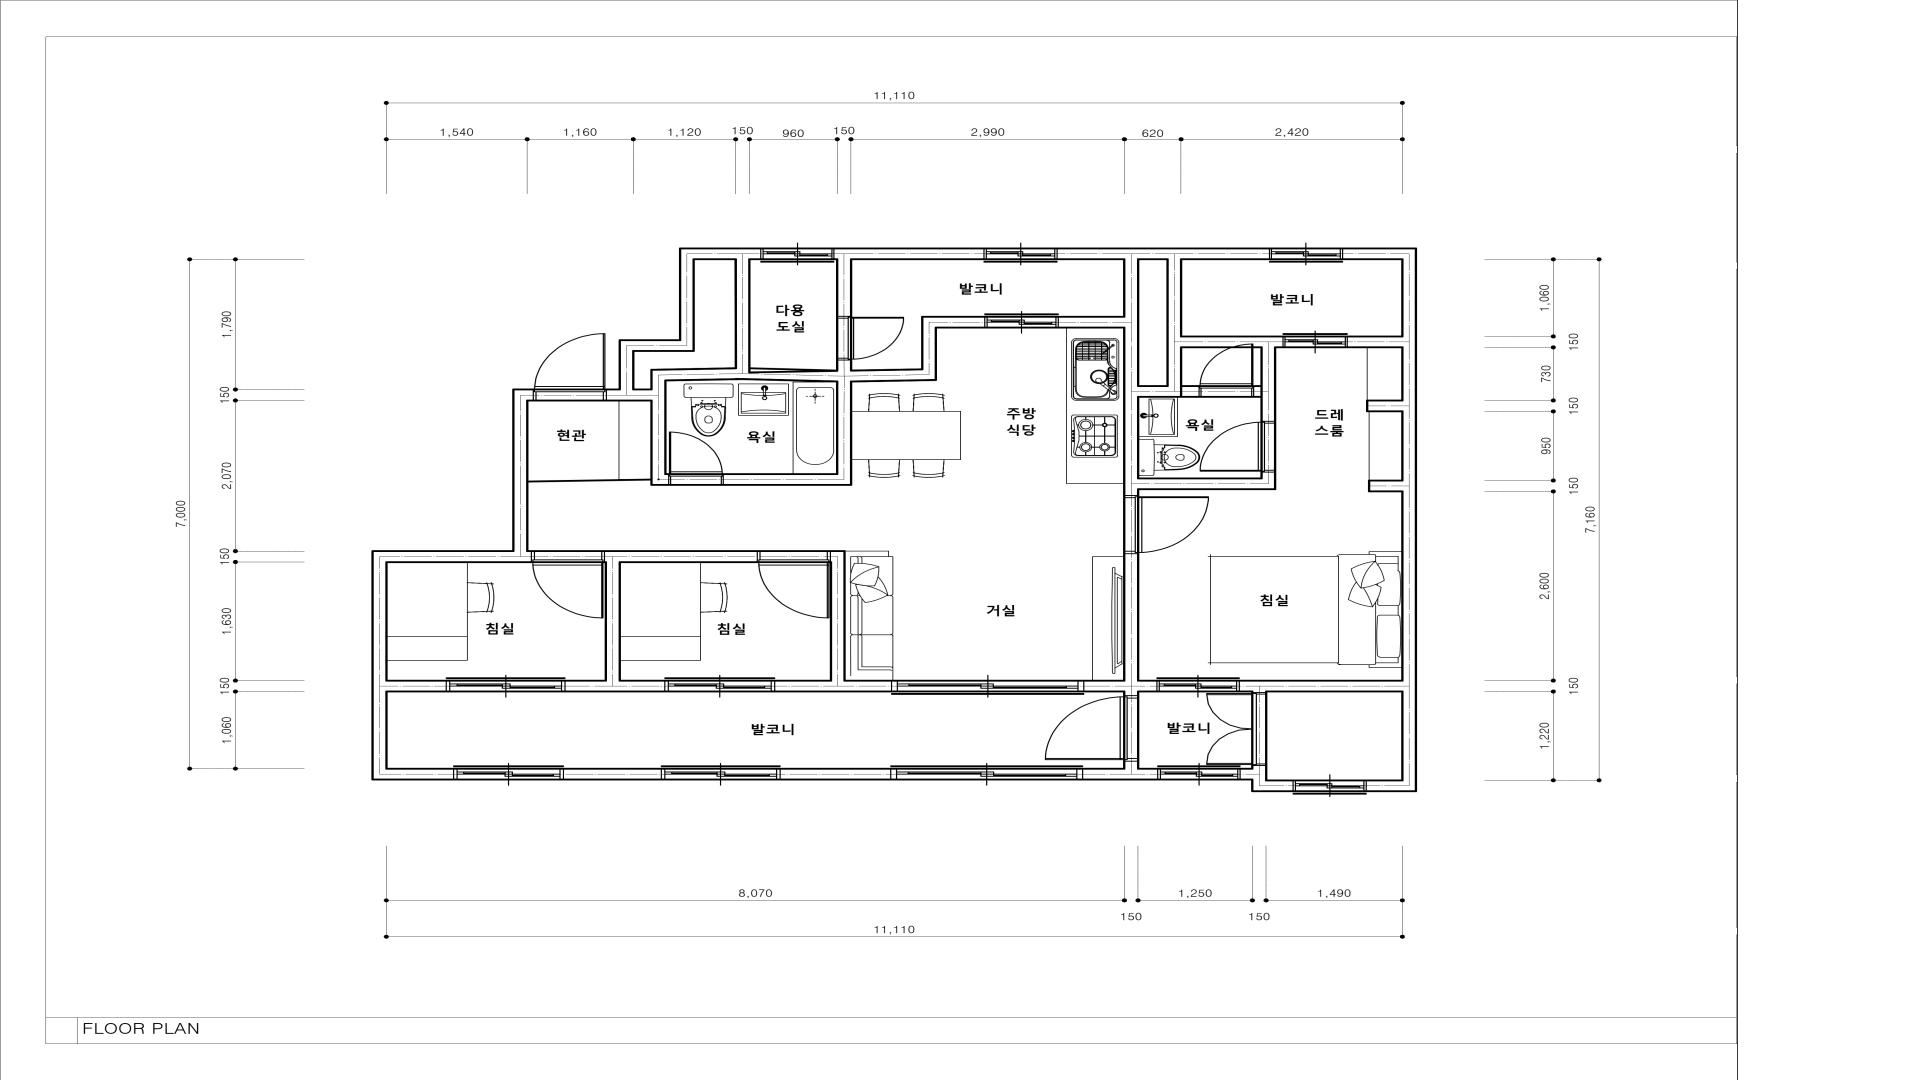door: (1044, 696, 1127, 760), (533, 333, 605, 392), (532, 560, 604, 618), (1135, 497, 1210, 552), (759, 560, 829, 618), (1206, 693, 1251, 765), (1199, 422, 1265, 471), (848, 316, 905, 359), (669, 431, 723, 476), (1199, 348, 1253, 388)
wall: (1240, 247, 1417, 792), (371, 388, 533, 781), (606, 247, 760, 402), (834, 247, 984, 316), (1123, 260, 1140, 496), (1057, 247, 1269, 260), (1123, 553, 1140, 680), (830, 550, 846, 680), (734, 260, 751, 380), (1166, 260, 1182, 385), (605, 550, 758, 563), (604, 563, 621, 679), (836, 360, 853, 473), (650, 369, 667, 473), (723, 473, 852, 486), (1140, 477, 1261, 490), (1083, 761, 1157, 780), (1241, 765, 1293, 792), (775, 680, 891, 692), (781, 768, 891, 780), (750, 367, 836, 382), (566, 680, 664, 693), (853, 368, 937, 383), (1182, 336, 1283, 348), (1260, 348, 1276, 422), (564, 768, 661, 780), (667, 367, 734, 382), (1084, 680, 1157, 692), (921, 316, 937, 368), (1059, 316, 1123, 328), (387, 680, 446, 692), (937, 316, 984, 329), (1140, 385, 1182, 398), (1260, 472, 1276, 490), (650, 473, 669, 486), (1182, 385, 1200, 398), (634, 388, 650, 402), (1253, 385, 1260, 398), (1123, 692, 1139, 696)
window: (891, 680, 1084, 695), (890, 765, 1083, 780), (446, 677, 566, 692), (661, 765, 781, 780), (453, 765, 564, 781), (664, 677, 775, 693), (1157, 765, 1241, 780), (1156, 677, 1240, 692), (1293, 779, 1367, 795), (1269, 247, 1343, 263), (984, 247, 1058, 263), (984, 313, 1059, 328), (760, 248, 834, 263), (1283, 333, 1348, 348)
